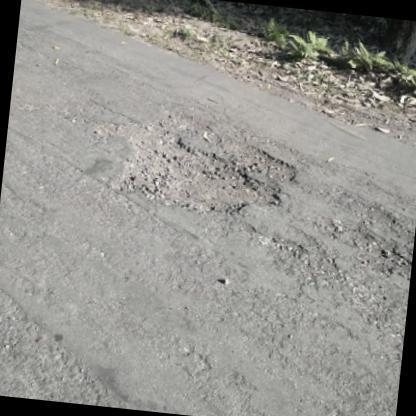pothole: (119, 107, 294, 216), (330, 201, 416, 296)
